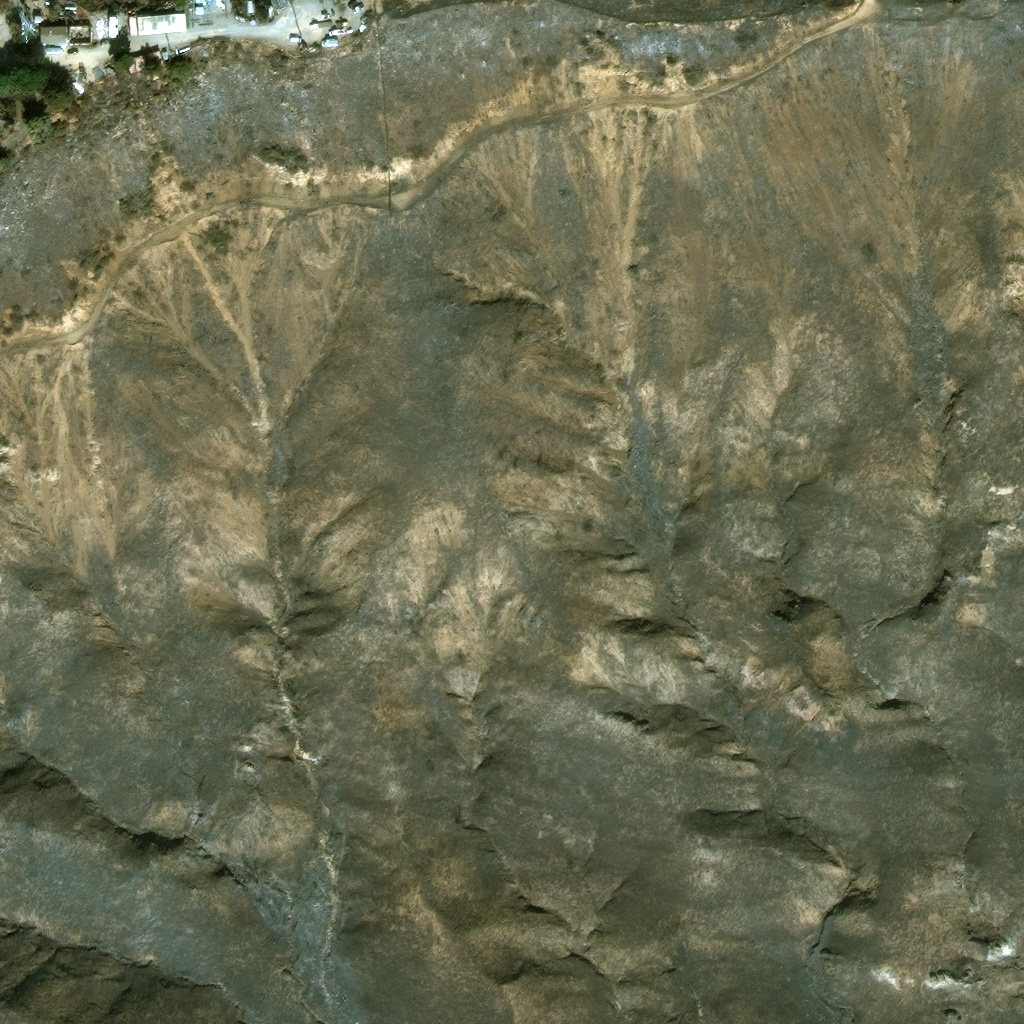0 no-damage: (127, 11, 186, 33), (119, 45, 162, 74), (36, 22, 66, 40), (68, 23, 89, 39), (58, 8, 73, 16), (32, 12, 42, 20), (194, 5, 204, 13), (276, 0, 286, 5)
4 un-classified: (59, 65, 69, 73)
